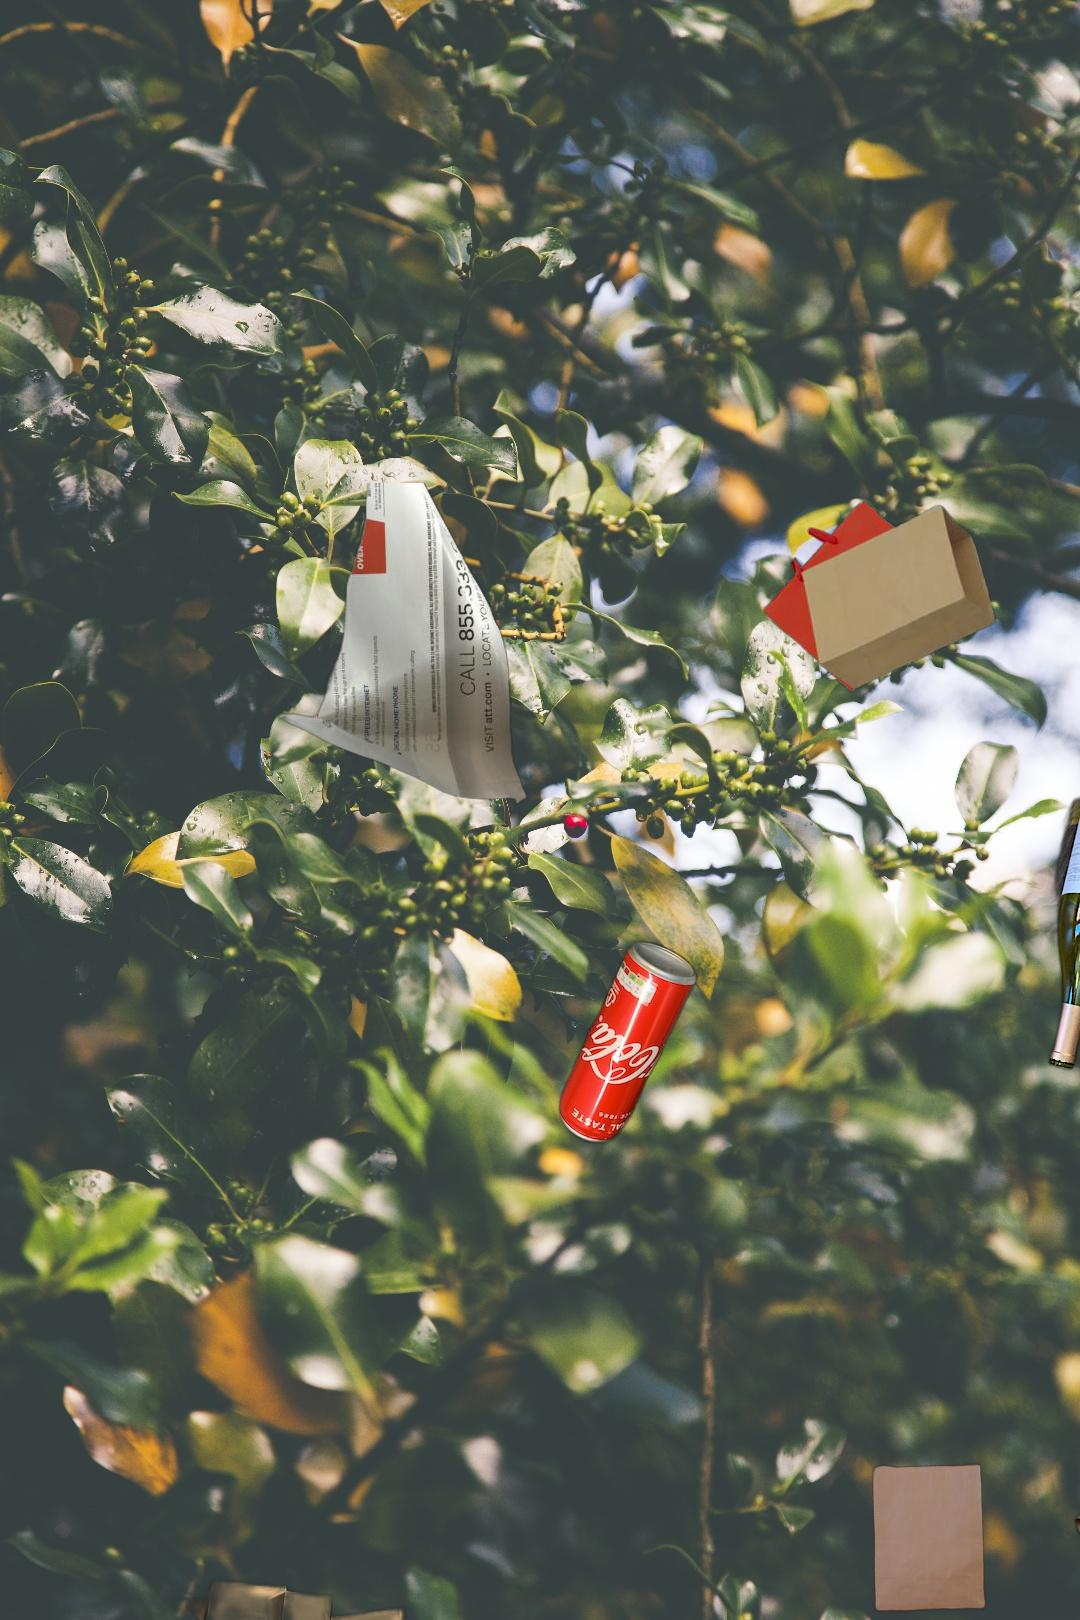glass: (1041, 770, 1080, 1076)
metal-cans: (556, 934, 702, 1147), (1070, 1399, 1080, 1577)
paper: (276, 483, 532, 808)
paper-bag: (761, 500, 999, 694), (870, 1461, 990, 1614)
trashbox-cardboard: (88, 1577, 415, 1620)
